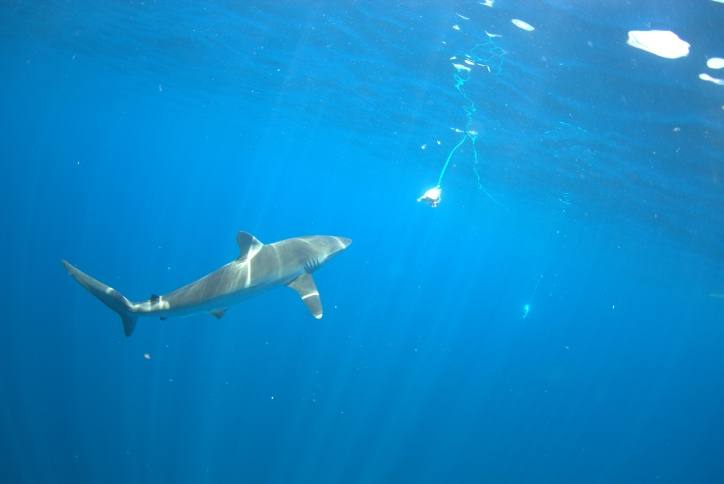Sedoso: (48, 220, 352, 354)
